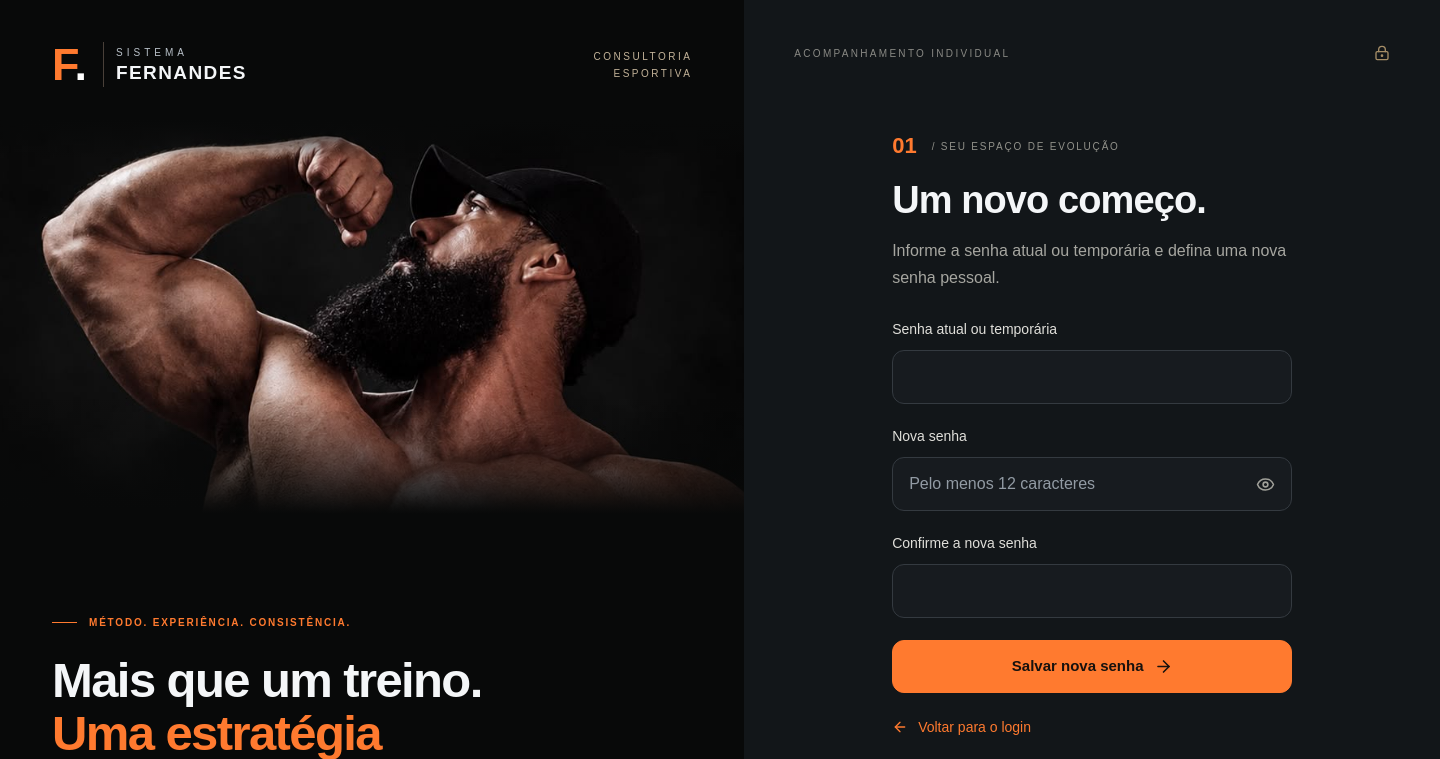
Scenario: authentication UI with mocked service › requires current password and returns to login after successful change
Step 1. Type "temporary-password" into the password field labelled "Senha atual ou temporária" → (1092, 377), box 892,350 -> 1292,404
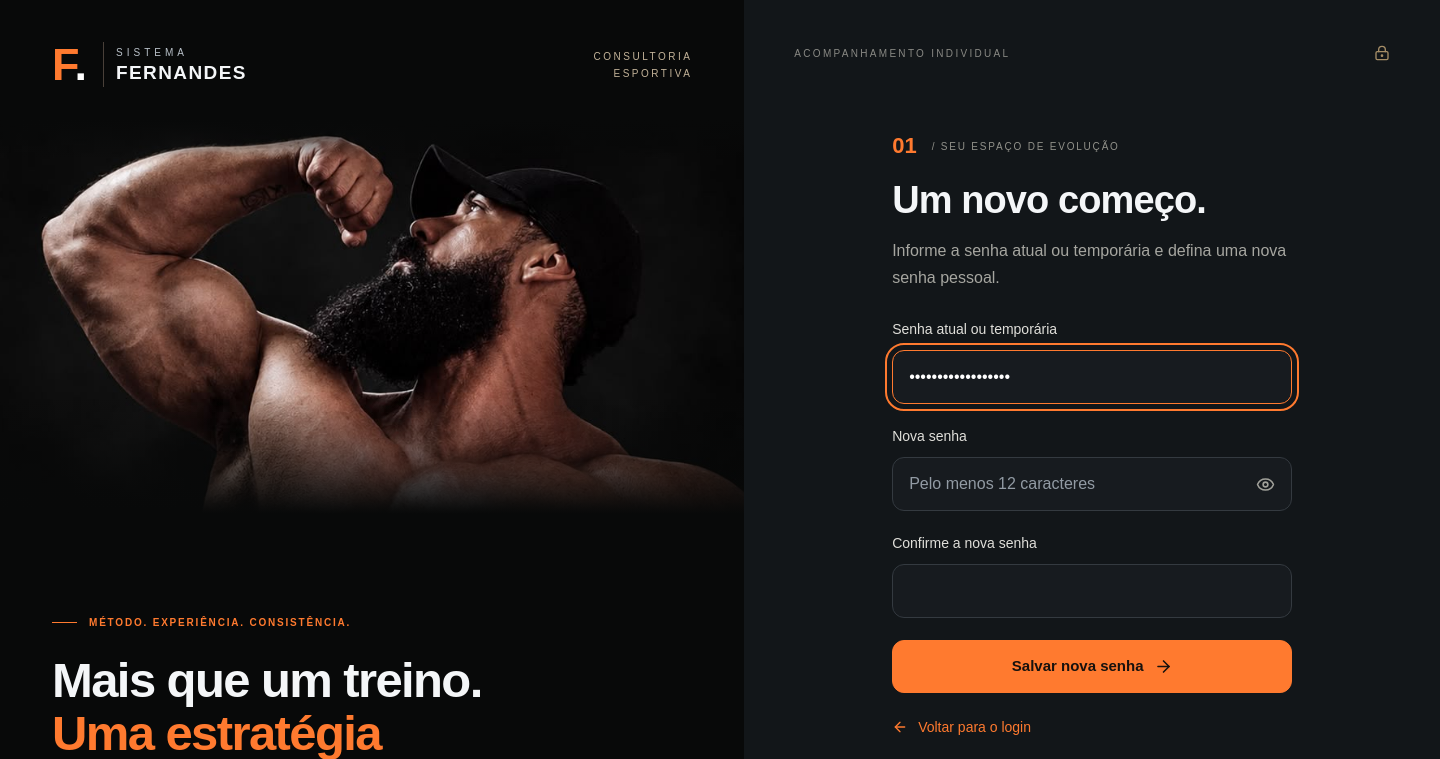
Step 2. Type "personal-password" into the password field with placeholder "Pelo menos 12 caracteres" → (1092, 484), box 892,457 -> 1292,511
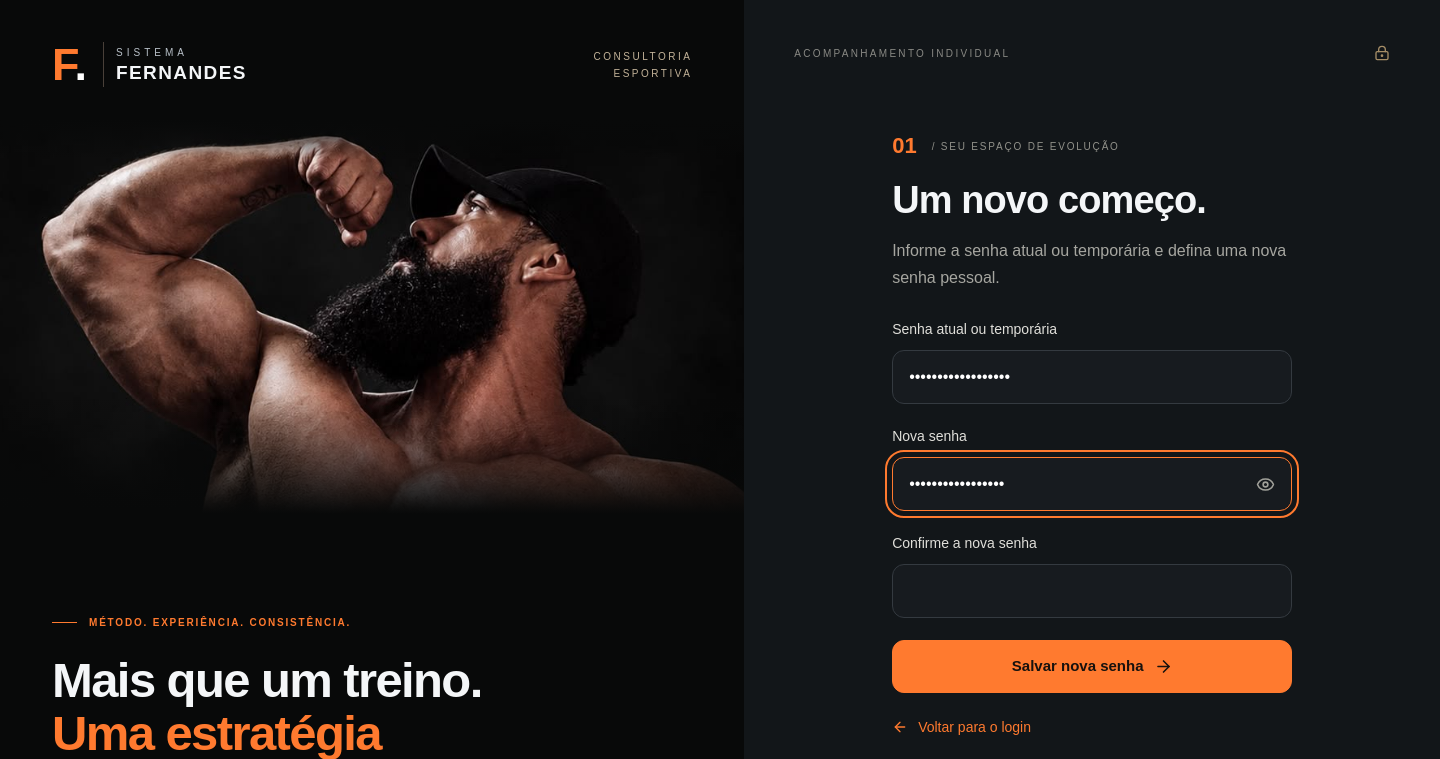
Step 3. Type "personal-password" into the password field labelled "Confirme a nova senha" → (1092, 591), box 892,564 -> 1292,618
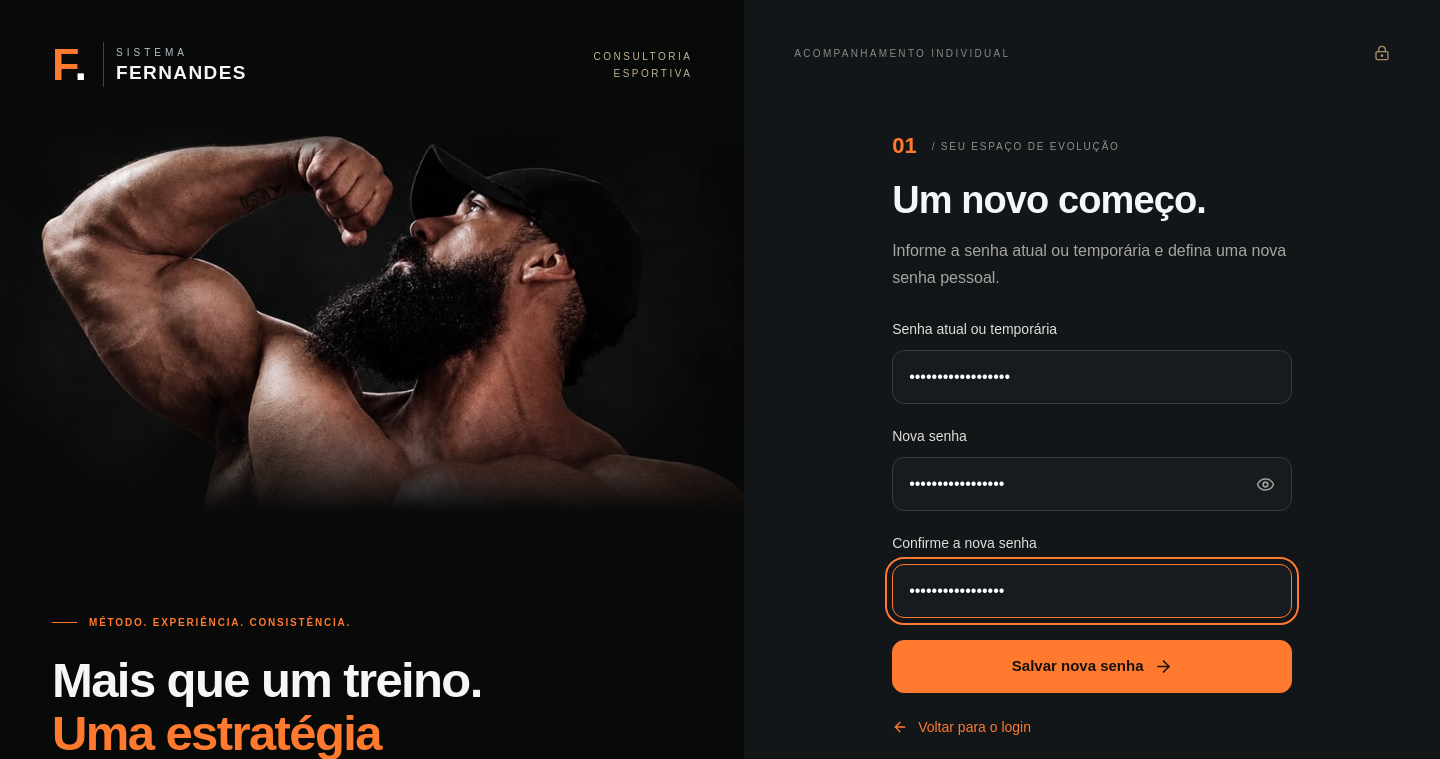
Step 4. Click the button "Salvar nova senha" → (1092, 667), box 892,640 -> 1292,693
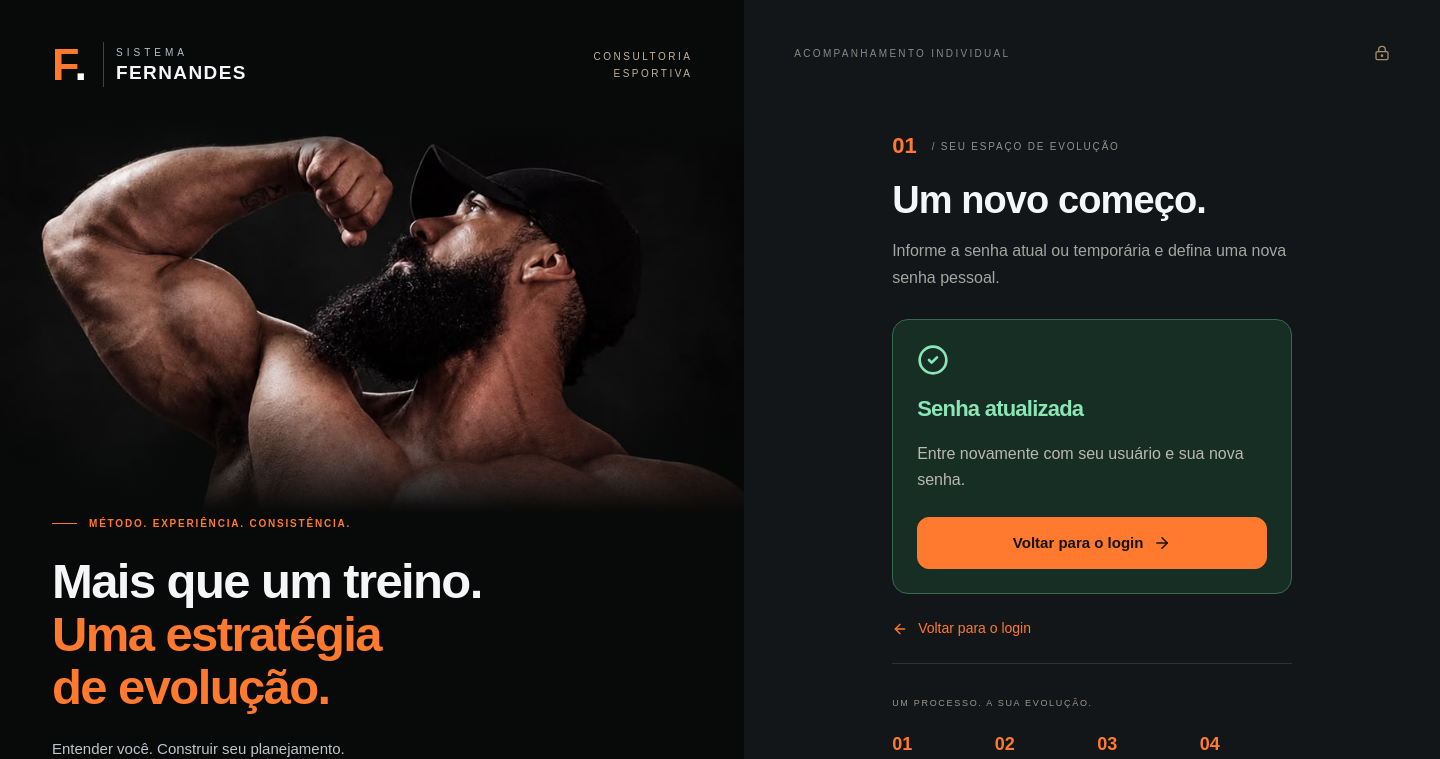
Expected: the heading "Senha atualizada" is shown, 917,396 -> 1083,421
